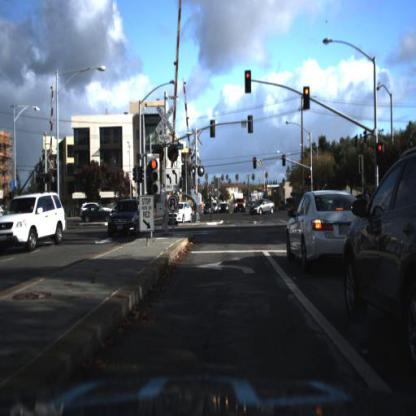car: (343, 145, 416, 375), (285, 185, 362, 271), (1, 185, 69, 259), (287, 185, 344, 267), (2, 188, 67, 256), (106, 198, 142, 239), (105, 205, 139, 245), (169, 202, 196, 227), (250, 197, 277, 218), (255, 198, 278, 217), (234, 198, 248, 218), (218, 199, 229, 219)
pedestrian: (411, 197, 416, 230)
trafficLight-Red: (149, 155, 161, 195), (149, 154, 160, 194), (304, 85, 312, 109), (377, 141, 385, 162), (307, 173, 315, 189), (303, 84, 310, 101), (253, 155, 259, 174), (379, 143, 385, 160), (253, 155, 259, 171), (281, 152, 287, 168), (282, 152, 288, 168), (308, 173, 312, 185)
trafficLight-RedLeft: (245, 70, 253, 96), (244, 72, 250, 92)
